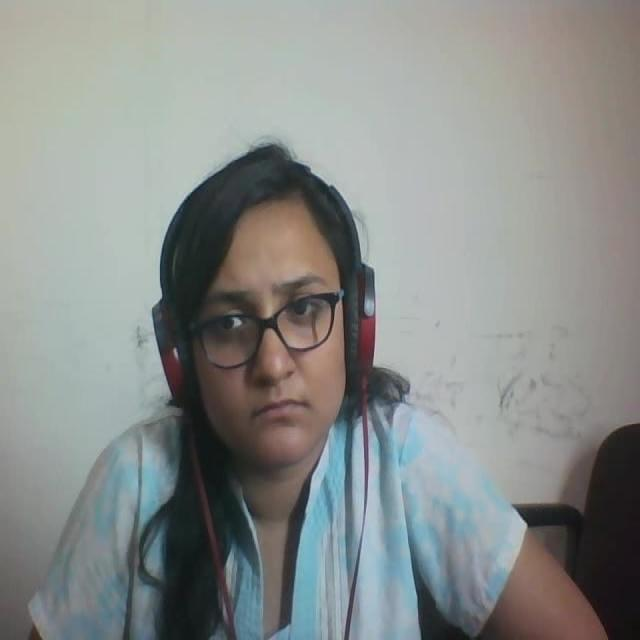Engaged: (129, 124, 410, 509)
